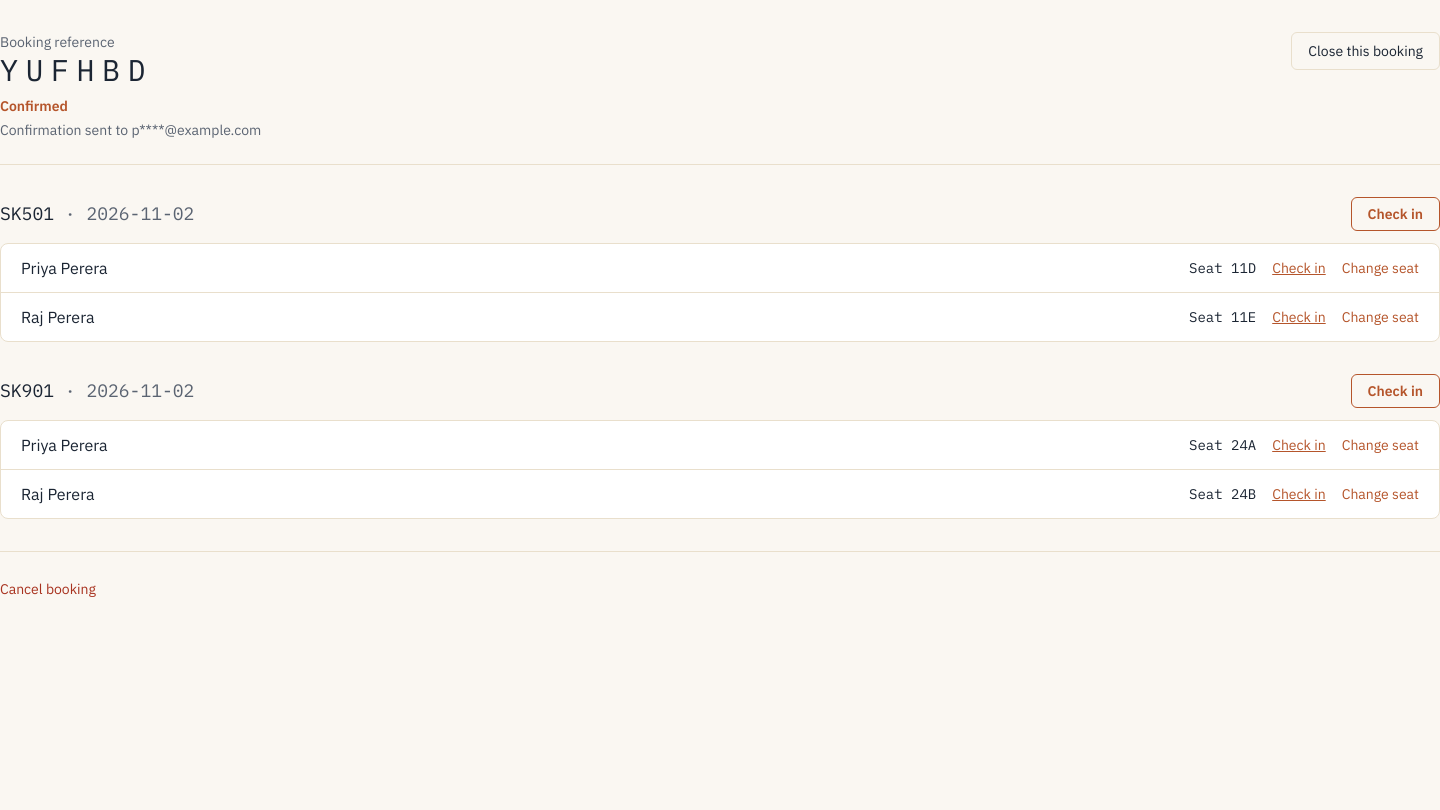
ManageView › the money after cancelling (ADR-0016) › tells the traveller the refund rule before they cancel
Click the button "Cancel booking" at (48, 589), box left=0, top=579, right=96, bottom=599
(page scrolled)
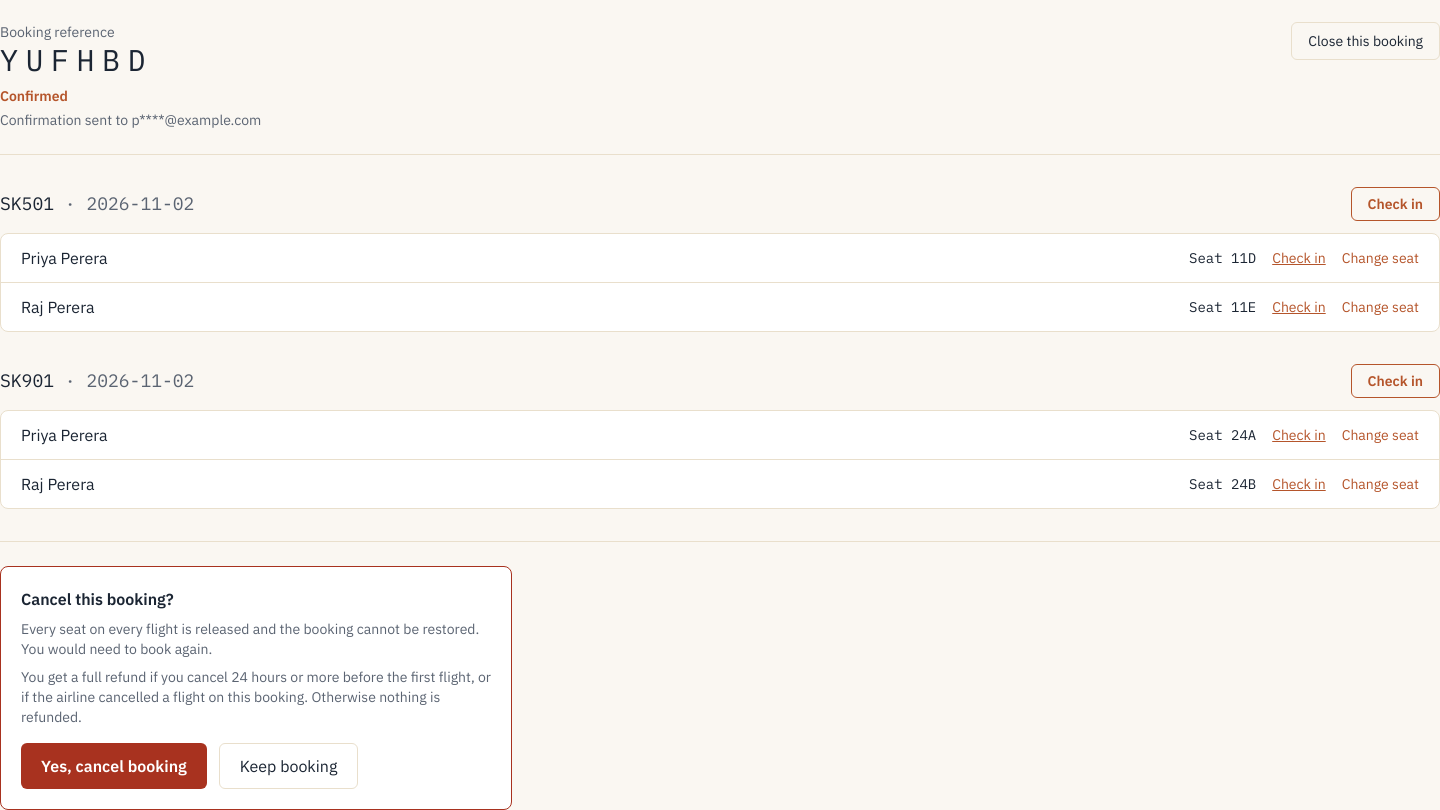
Now the dialog shows "full refund if you cancel 24 hours or more before the first flight, or if the airline cancelled a flight", box left=21, top=668, right=491, bottom=726
